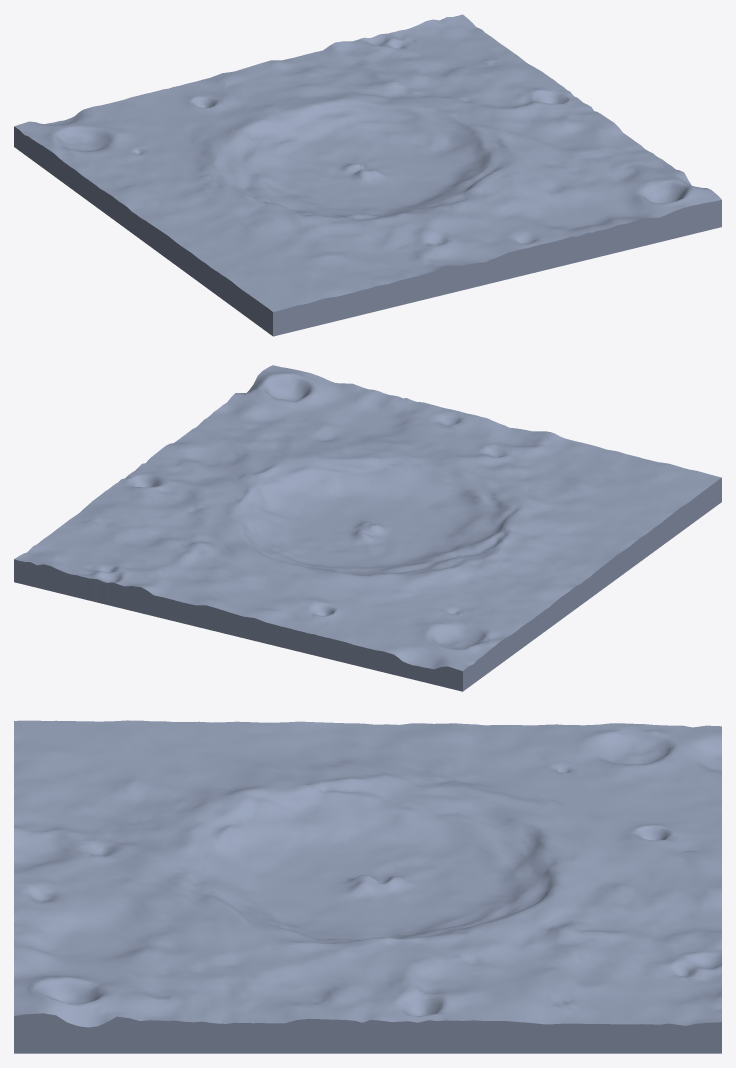
3 renders of one model, top to bottom at view 1: azimuth 30°, elevation 25°; view 2: azimuth 150°, elevation 25°; view 3: azimuth 270°, elevation 25°, orthographic. The views are drawn at different scales.
Parts seen in each view (by area): view 1: split_parent_0; view 2: split_parent_0; view 3: split_parent_0.
Part boxes in pixels (x1,y1,x2,y2): split_parent_0: (14,14,721,336); split_parent_0: (14,365,721,691); split_parent_0: (14,720,721,1053).
Bounding box in the file's own units: 1 × 0.068 × 1.
